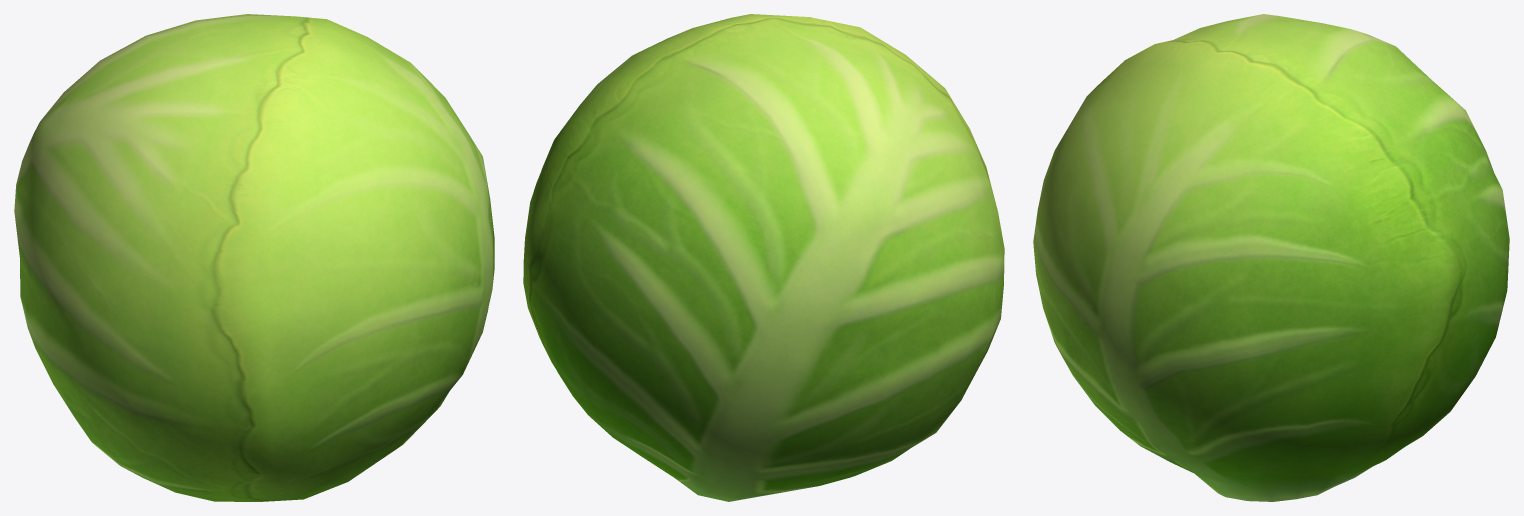
File: Cabbage.fbx
The picture shows the model from 3 angles, left to right: view 1: azimuth 30°, elevation 25°; view 2: azimuth 150°, elevation 25°; view 3: azimuth 270°, elevation 25°; orthographic projection. The views are drawn at different scales.
Parts seen in each view (by area): view 1: Cabbage; view 2: Cabbage; view 3: Cabbage.
Boxes of the visible parts, left/top/right/bottom form: Cabbage: left=14, top=14, right=494, bottom=501; Cabbage: left=523, top=14, right=1004, bottom=501; Cabbage: left=1033, top=14, right=1509, bottom=501.
Size of the model in its own units: 33.76 by 34.42 by 33.81.
